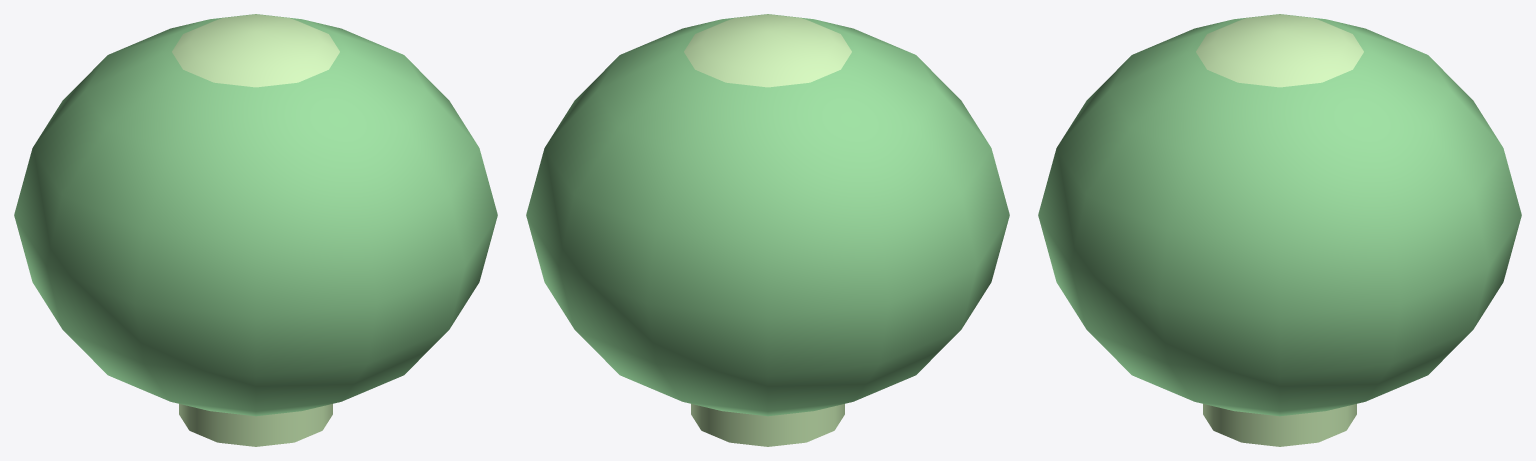
The model's file is collectible_lettuce.glb.
The picture shows the model from 3 angles, left to right: view 1: azimuth 30°, elevation 25°; view 2: azimuth 150°, elevation 25°; view 3: azimuth 270°, elevation 25°; orthographic projection.
Visible parts, largest first — view 1: CollectibleLettuce; view 2: CollectibleLettuce; view 3: CollectibleLettuce.
Boxes of the visible parts, bbox=[...] form: CollectibleLettuce: bbox=[14, 14, 497, 446]; CollectibleLettuce: bbox=[526, 14, 1009, 446]; CollectibleLettuce: bbox=[1038, 14, 1521, 446].
Size of the model in its own units: 0.22 by 0.192 by 0.22.
